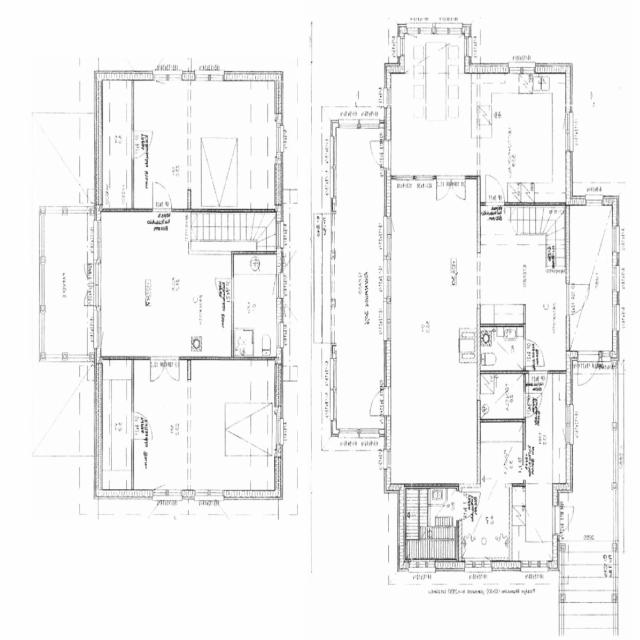door: (552, 506, 580, 535), (566, 284, 591, 315), (578, 351, 598, 388), (365, 140, 391, 168), (366, 388, 392, 416), (456, 492, 481, 520), (131, 412, 153, 440), (486, 174, 505, 206), (529, 371, 548, 401), (153, 182, 172, 212), (523, 339, 544, 366), (132, 131, 153, 158), (79, 284, 101, 306), (79, 264, 101, 284), (523, 394, 542, 417), (216, 278, 233, 302), (451, 176, 465, 200), (437, 176, 451, 200), (165, 357, 179, 381), (151, 357, 165, 381)
